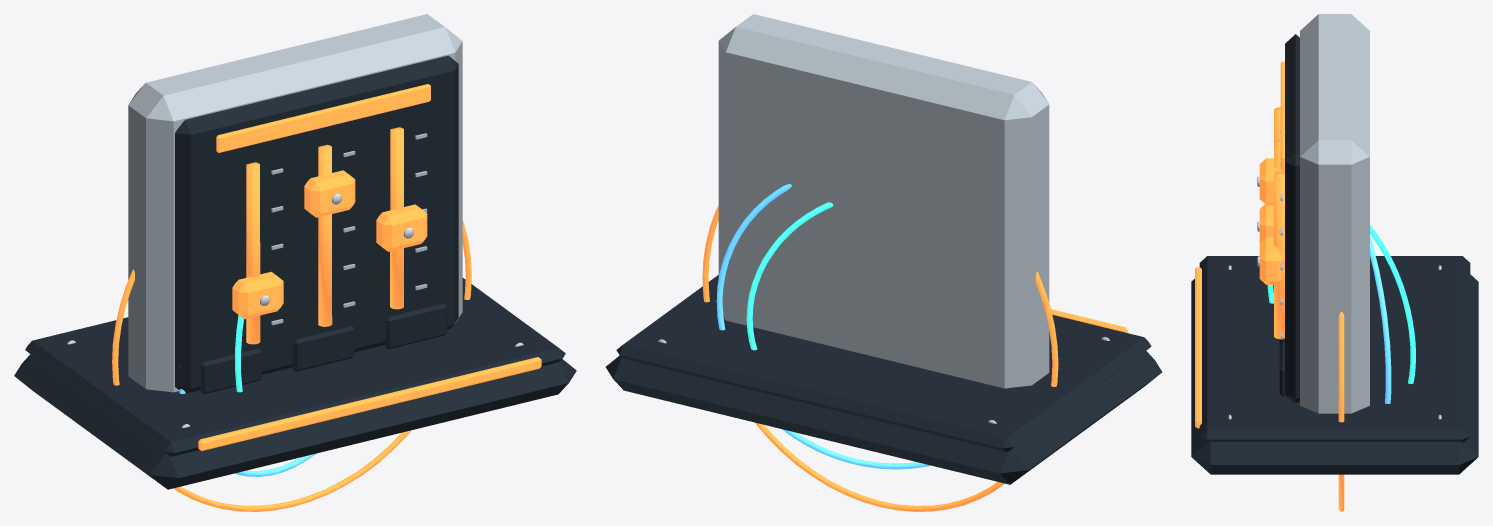
The model's file is Artifact_Usage.glb.
3 renders of one model, left to right at view 1: azimuth 30°, elevation 25°; view 2: azimuth 150°, elevation 25°; view 3: azimuth 270°, elevation 25°, orthographic. The views are drawn at different scales.
Parts seen in each view (by area): view 1: Artifact_Usage_Body; view 2: Artifact_Usage_Body; view 3: Artifact_Usage_Body.
Boxes of the visible parts, x1,y1,x2,y2 form: Artifact_Usage_Body: (14, 14, 576, 511); Artifact_Usage_Body: (605, 14, 1162, 511); Artifact_Usage_Body: (1191, 14, 1478, 511).
Bounding box in the file's own units: 2.08 × 2.11 × 1.32.
